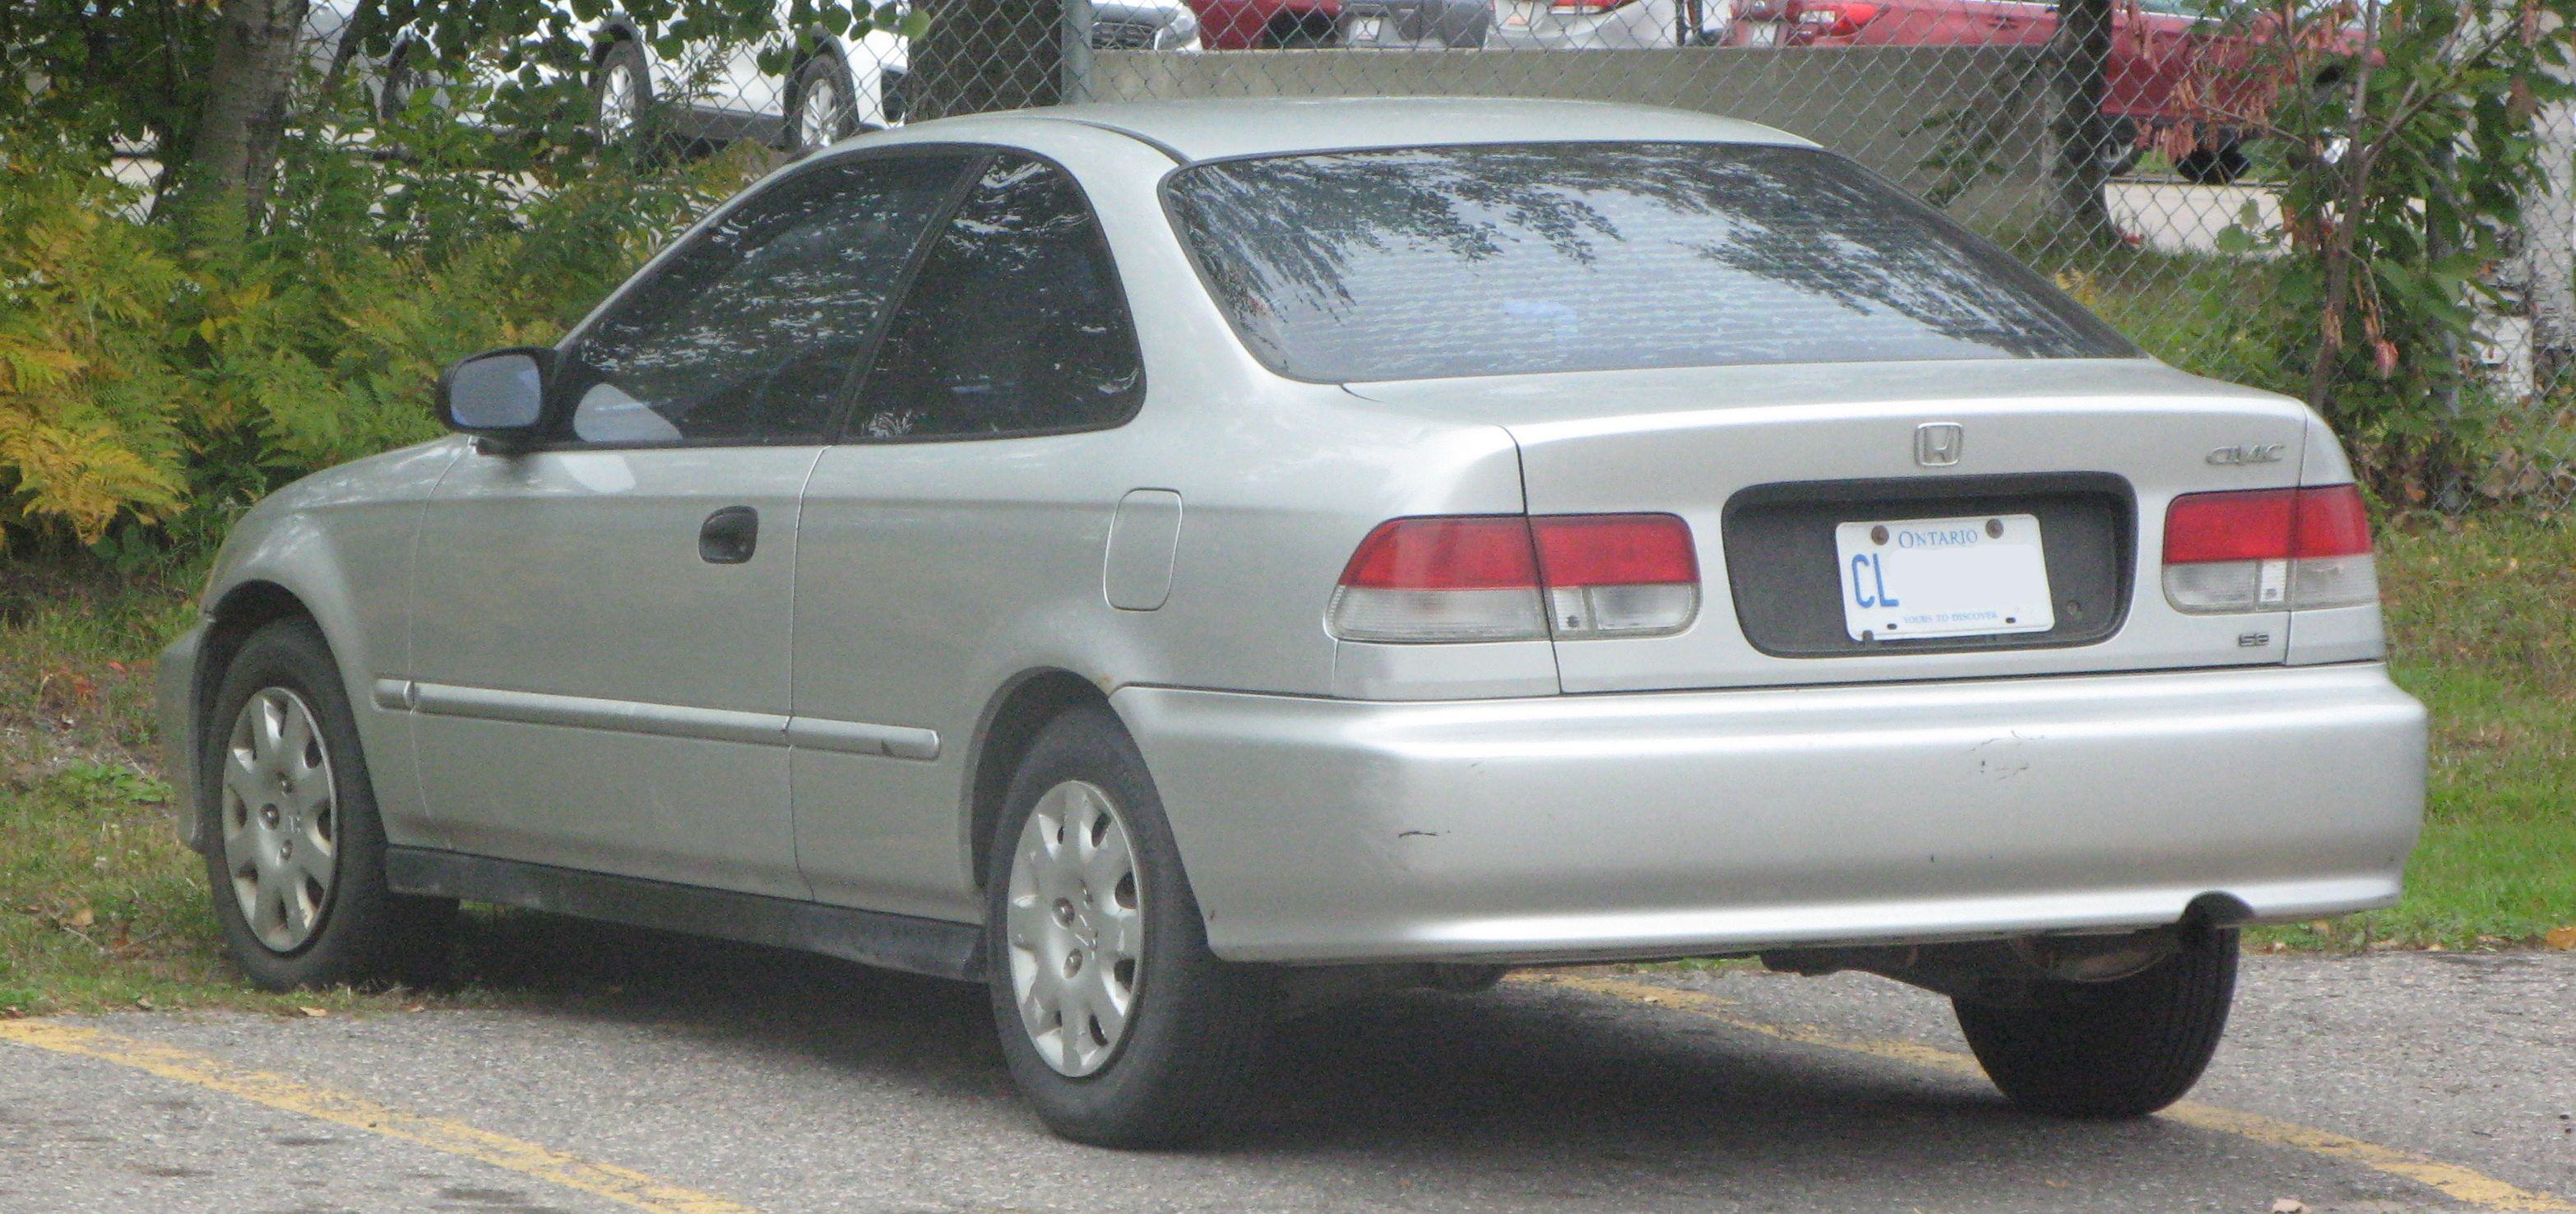car: (136, 90, 2441, 1155)
